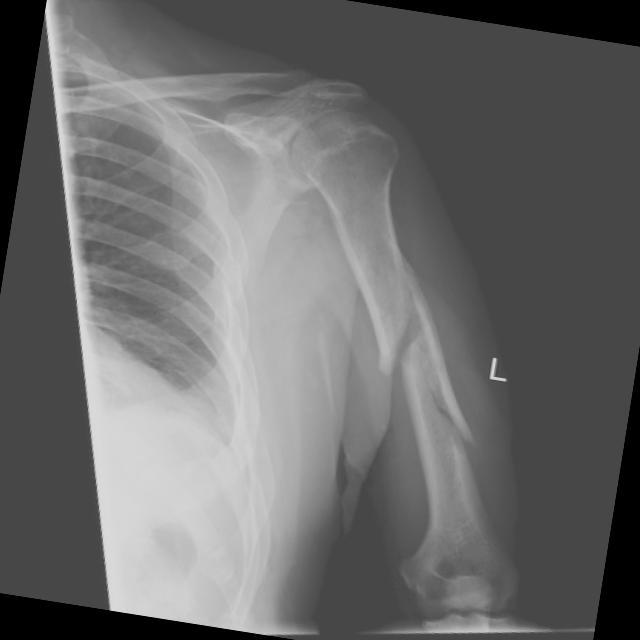Comminuted Fracture: (349, 224, 471, 369), (386, 374, 498, 452)
